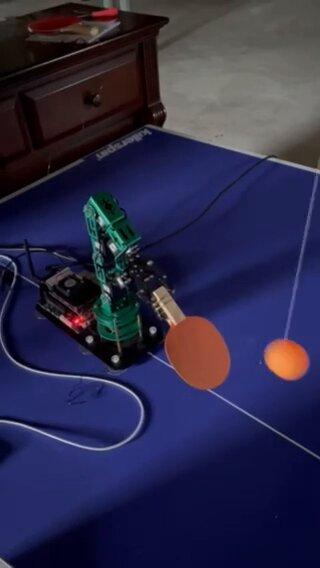oball: (265, 336, 307, 379)
